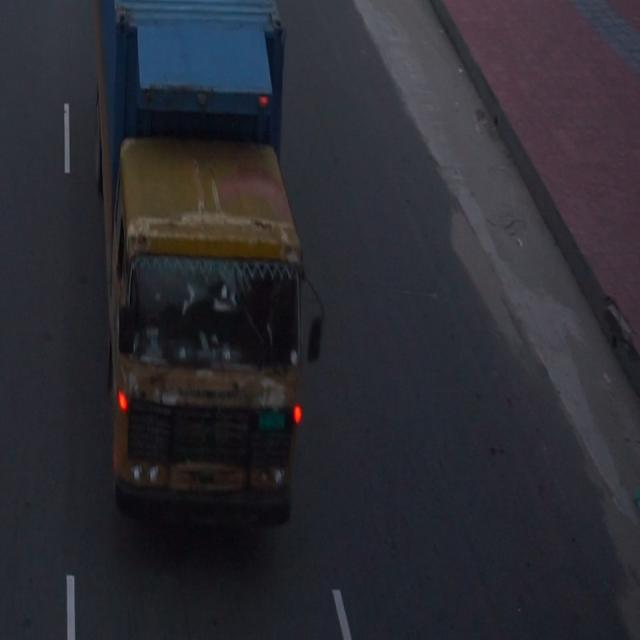van: (0, 0, 387, 617)
